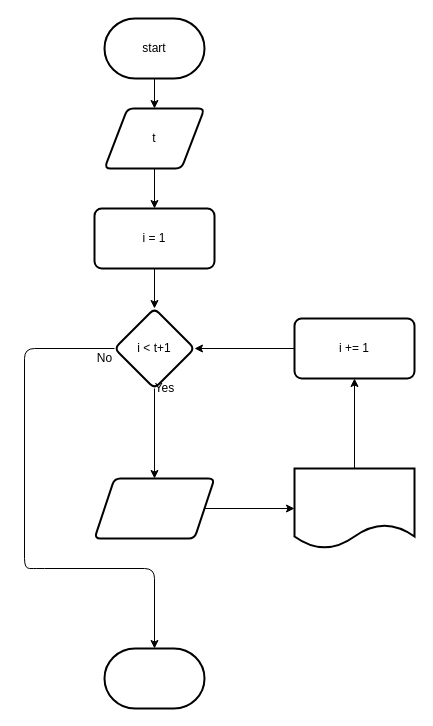
Image size: 433x726. Some labels were removed from this diagram. Here are the shapes that lost their labels. From the top down, the centre of each, then its label:
At point 154,508: "a, b".
At point 354,508: "Case# i : a+b".
At point 154,678: "finish".
